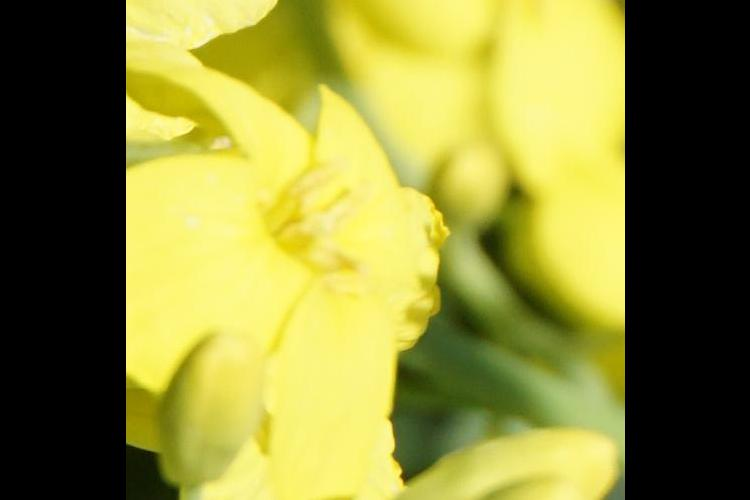bud: (382, 413, 615, 500), (160, 328, 271, 497)
yellow: (136, 70, 461, 465), (132, 1, 299, 151)
